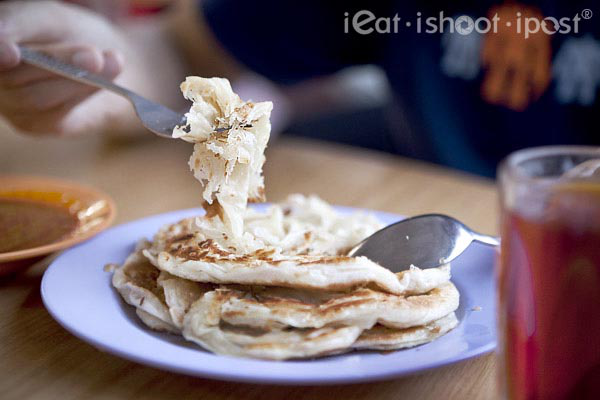Prata: (134, 216, 476, 358)
